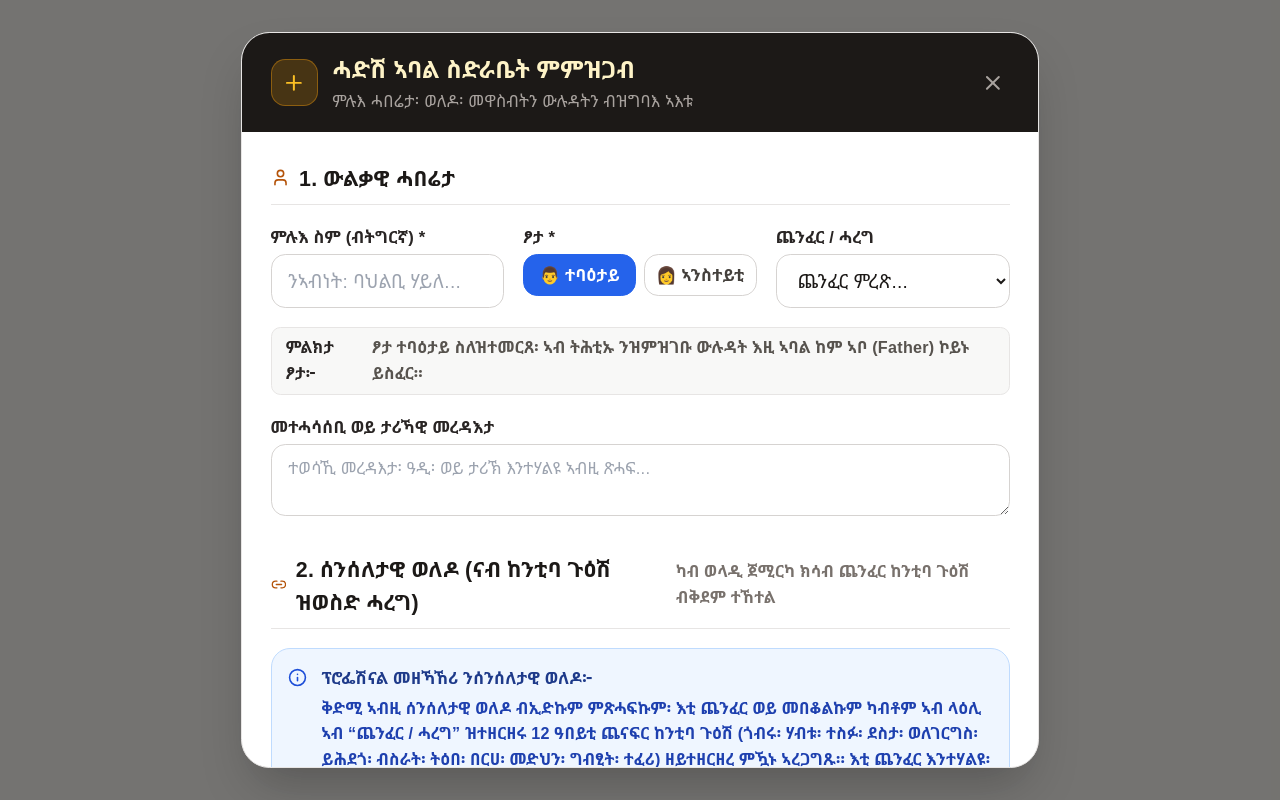
UI Navigation, Tree Interaction, and Safety Verification › 8. AddPersonGuidedModal: supports cascading branch descendants, guidance box, fuzzy match, and clean spouse input
This screenshot has width=1280, height=800.
Expected: the text "መተሓሳሰቢ ወይ ታሪኻዊ መረዳእታ" is shown, [270,415,494,438]
Expected: the text "ፕሮፌሽናል መዘኻኸሪ ንሰንሰለታዊ ወለዶ፦" is shown, [321,666,593,689]
Note: Requirement 1: Cascading branch selector
Step 1. Select "ሓረግ ትዕበ" in the dropdown → (893, 281), box [776,254,1010,308]
(page scrolled)
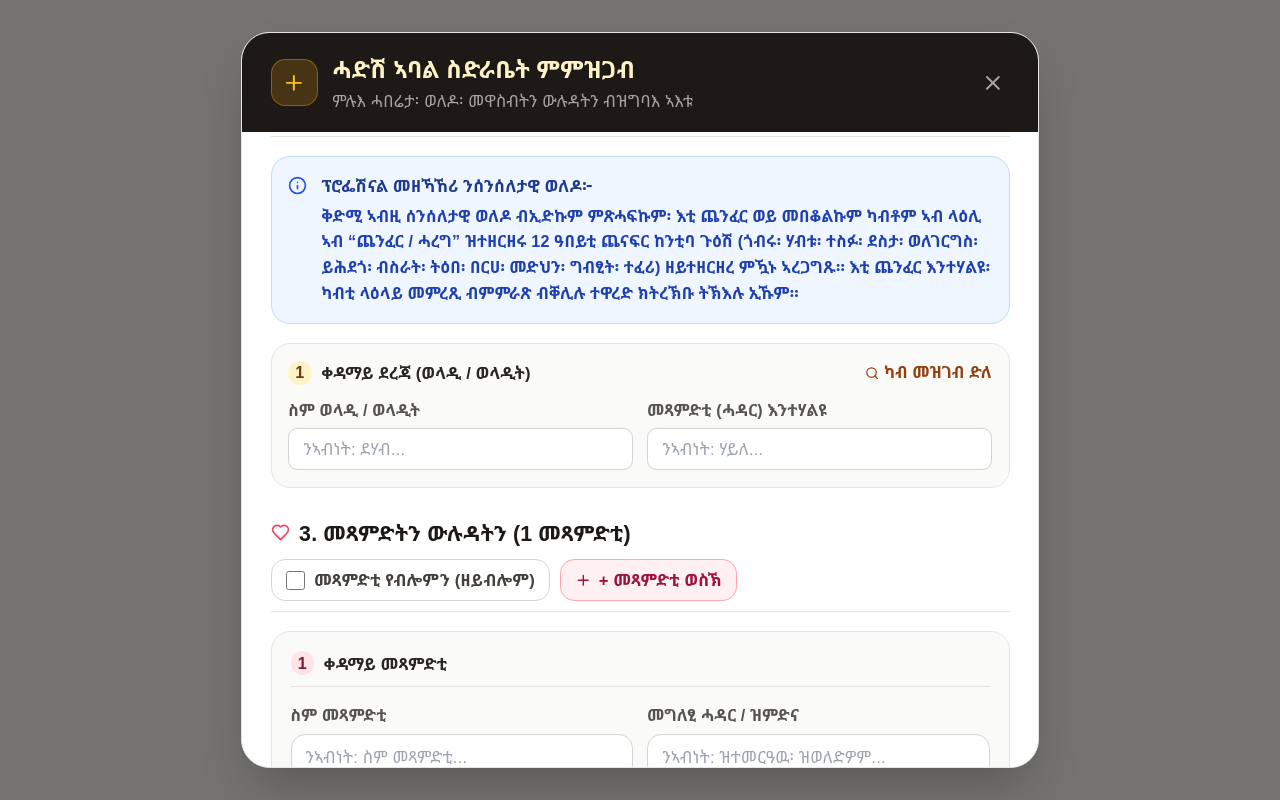
Note: Fuzzy typo matching on generation input
Step 2. Type "ትእበ" into the field with placeholder "ንኣብነት: ደሃብ..." → (460, 449), box [288,428,633,470]
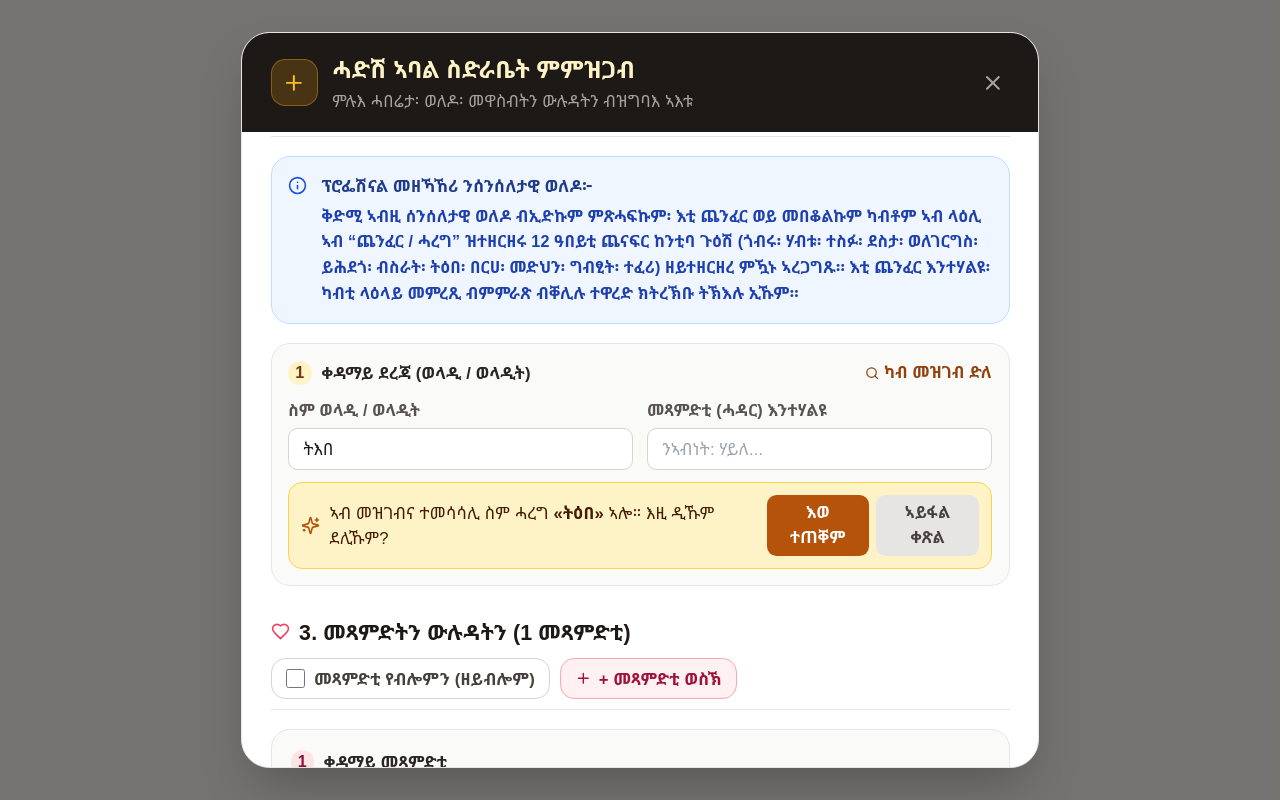
Expected: the text "ኣብ መዝገብና ተመሳሳሊ ስም ሓረግ «ትዕበ» ኣሎ። እዚ ዲኹም ደሊኹም?" is shown, [330,500,757,551]
Step 3. Click the button "እወ ተጠቐም" → (818, 525), box [766,495,869,556]
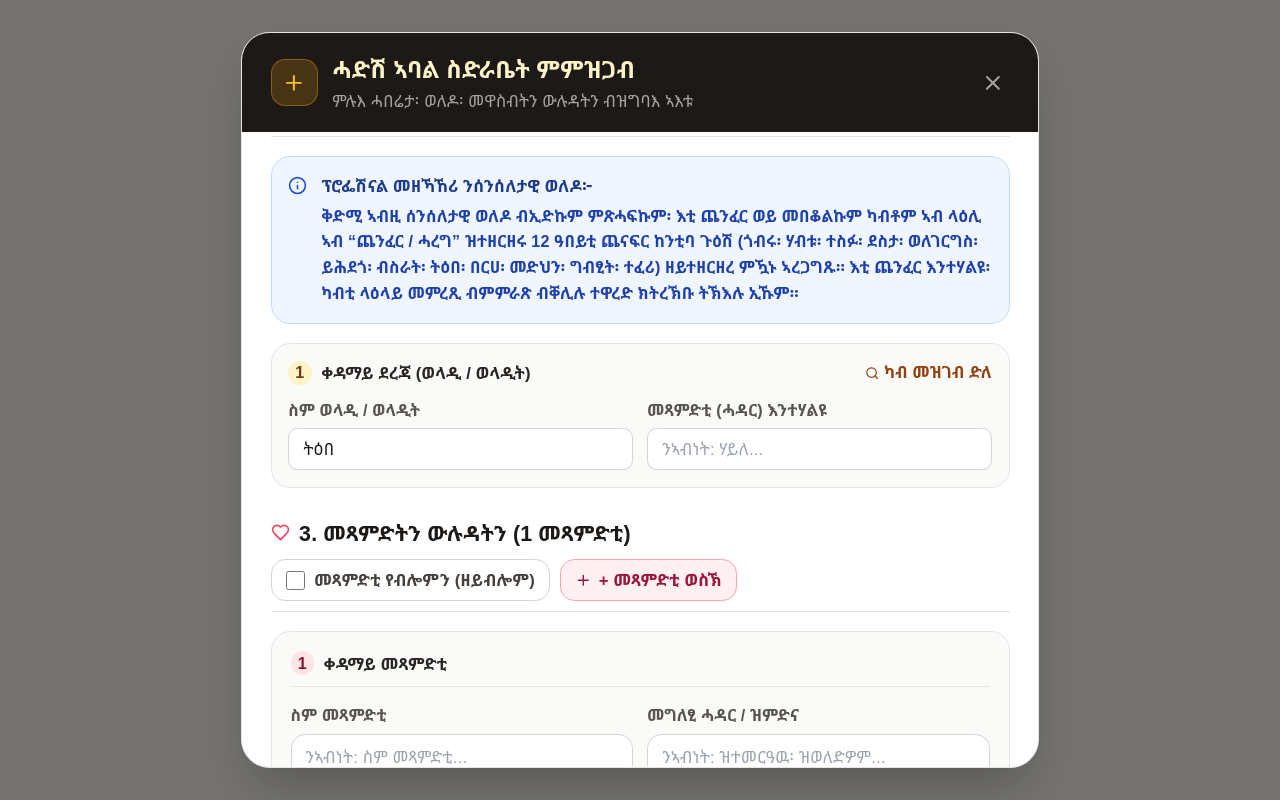
Expected: the field with placeholder "ንኣብነት: ደሃብ..." holds "ትዕበ", [288,428,633,470]
